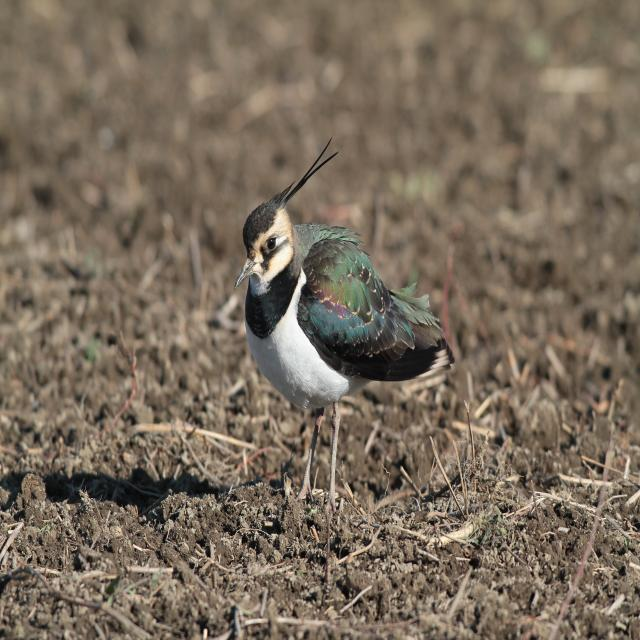bird: (227, 139, 458, 488)
